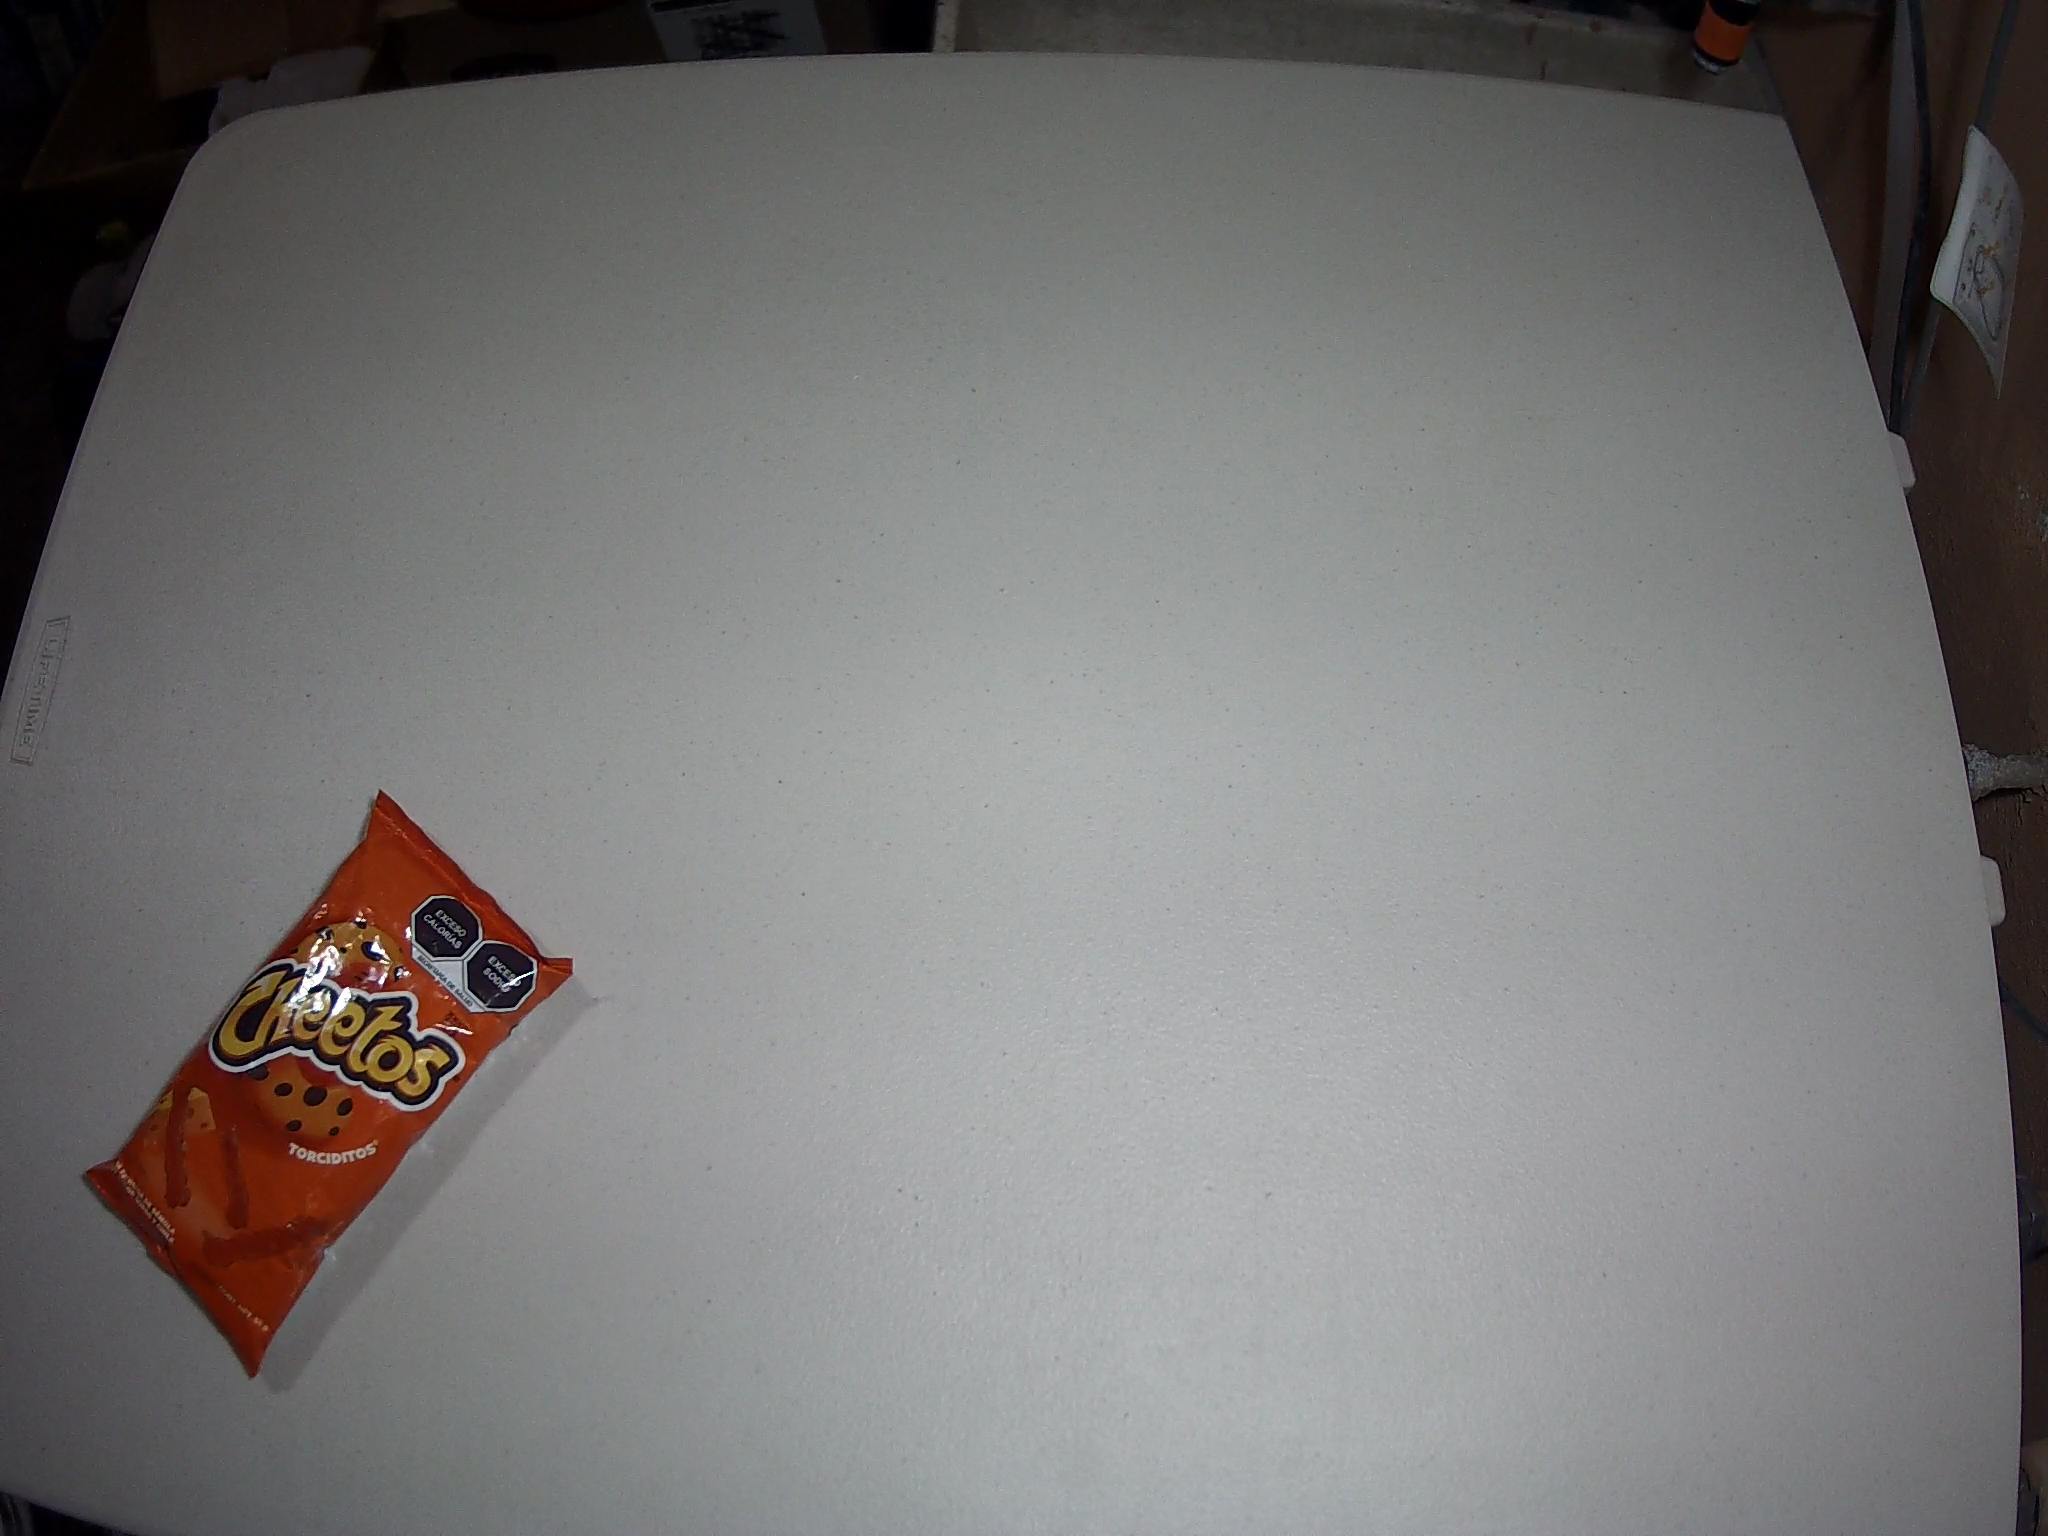CheetosTorciditos_55_F: (79, 786, 576, 1379)
